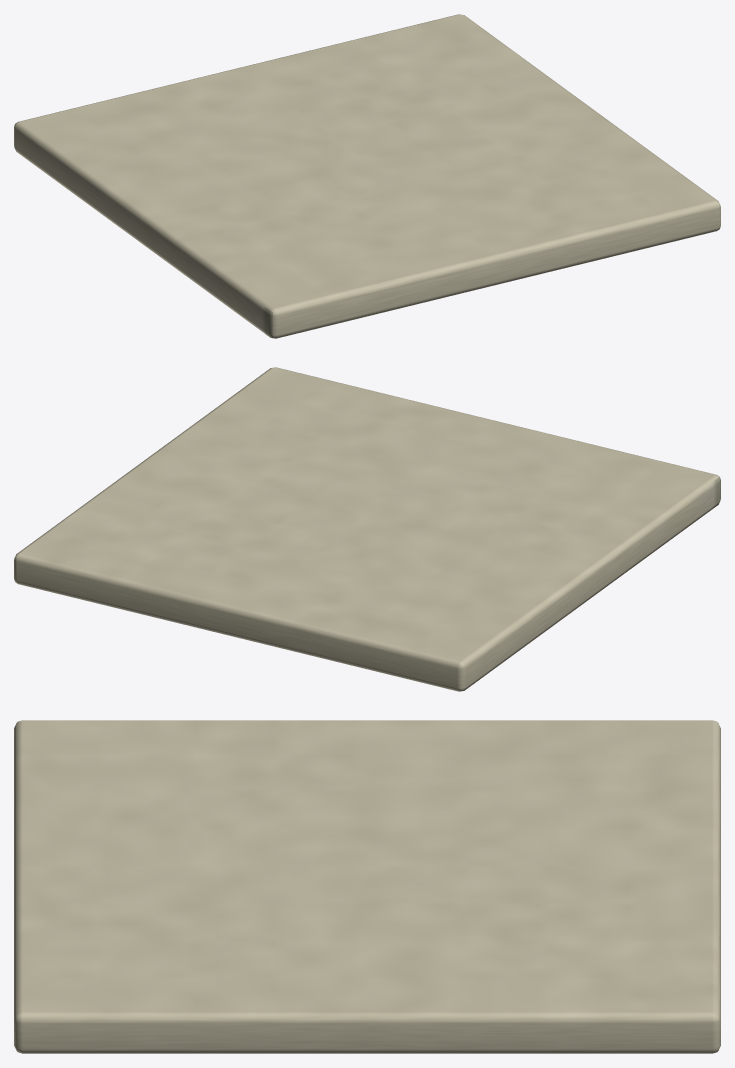
The model's file is paving.glb.
3 views of the same model, one above another, from view 1: azimuth 30°, elevation 25°; view 2: azimuth 150°, elevation 25°; view 3: azimuth 270°, elevation 25° (orthographic). The views are drawn at different scales.
Parts seen in each view (by area): view 1: Paving slab; view 2: Paving slab; view 3: Paving slab.
Boxes of the visible parts, bbox=[...] form: Paving slab: bbox=[14, 14, 720, 338]; Paving slab: bbox=[14, 367, 720, 691]; Paving slab: bbox=[14, 720, 720, 1053].
Bounding box in the file's own units: 2 × 0.13 × 2.
1 material, 1 textured.
